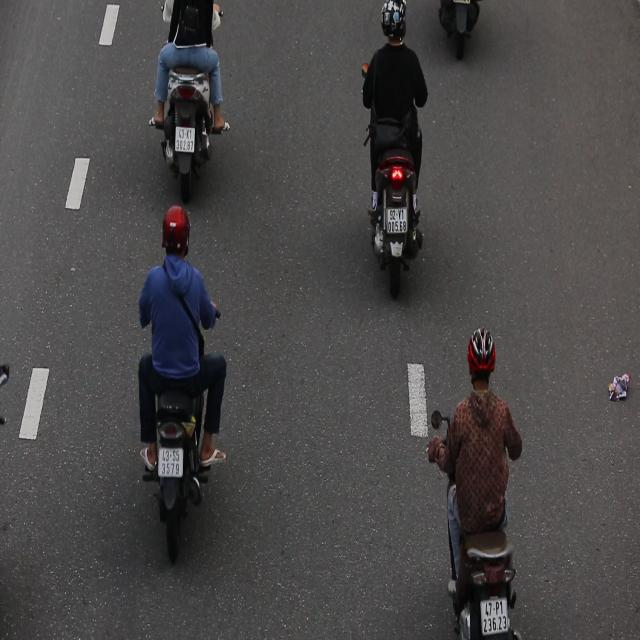motorbike: (130, 203, 228, 569), (429, 325, 530, 638), (355, 0, 431, 302)
